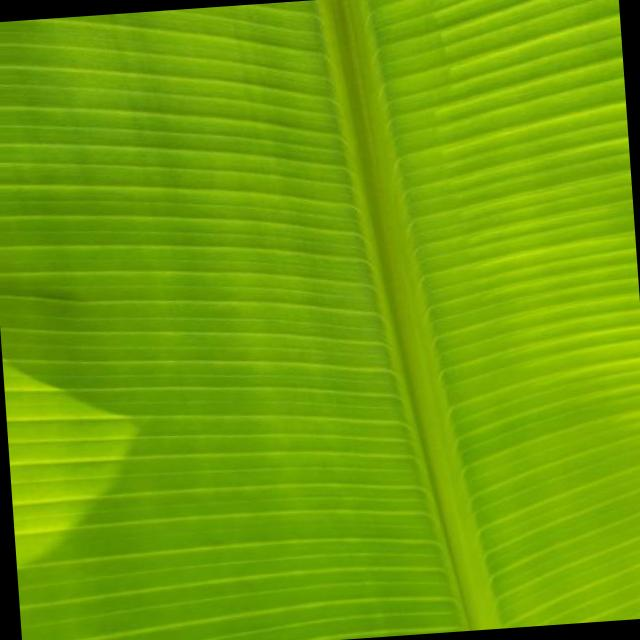Banana_Healthy: (112, 48, 590, 517)
